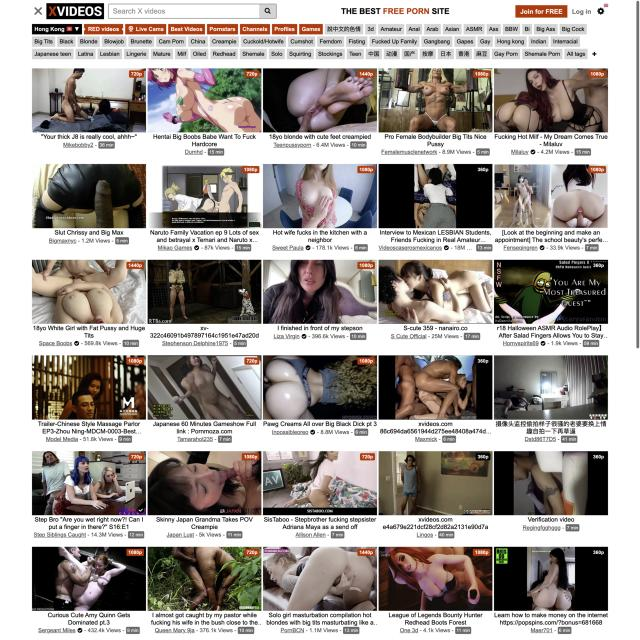input: (108, 3, 278, 19)
logo: (46, 3, 105, 20)
